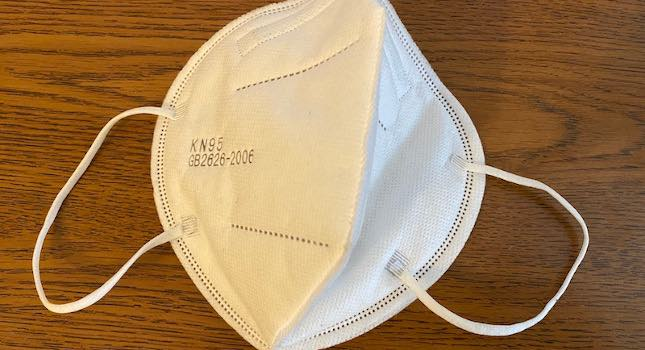Mask: (147, 2, 490, 350)
